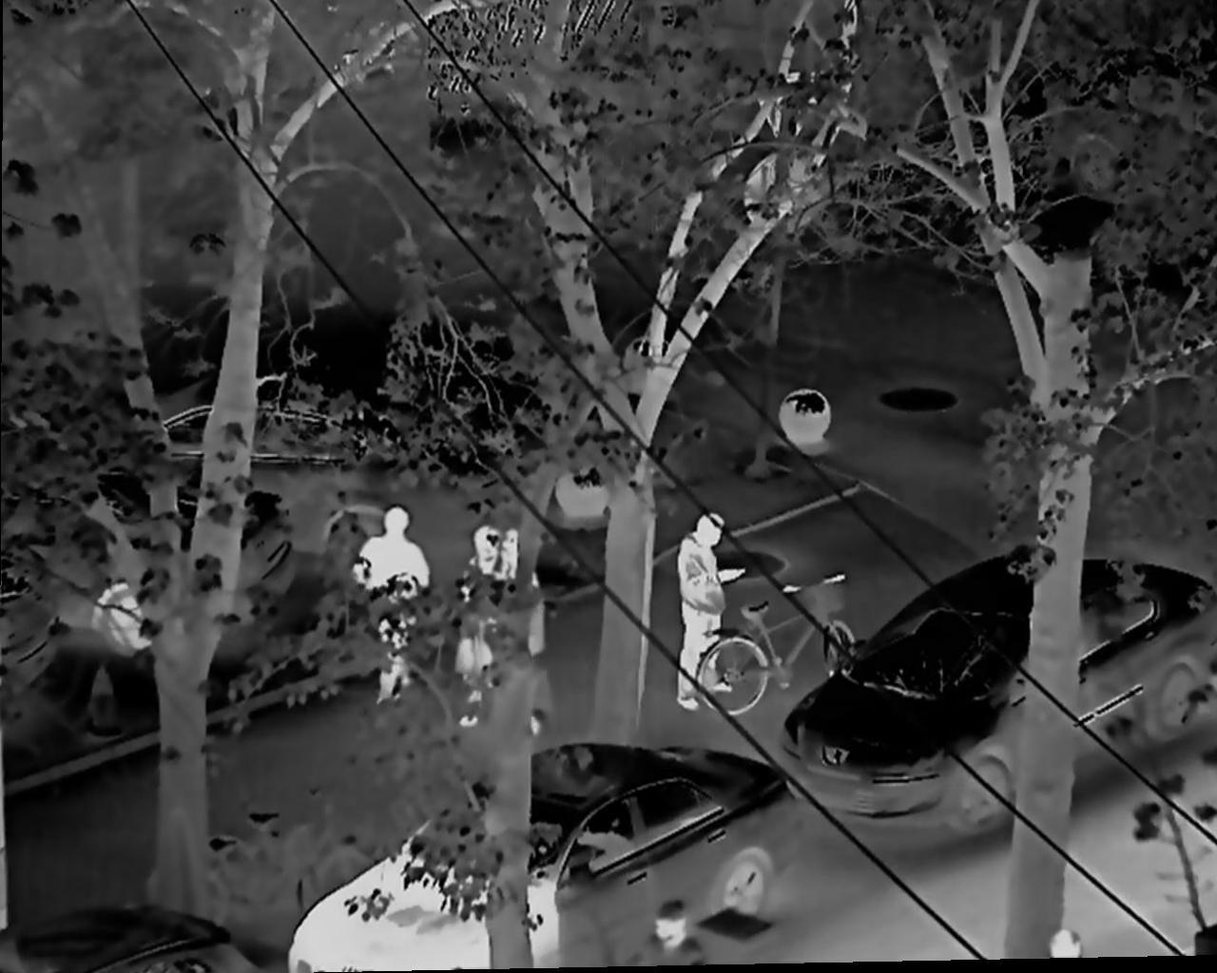person: (493, 527, 550, 728), (673, 512, 728, 708), (347, 506, 433, 599), (460, 525, 501, 718)
